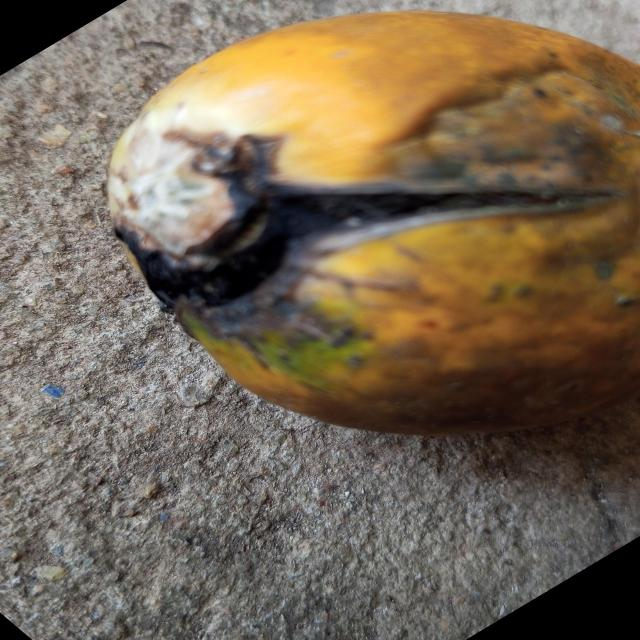damaged: (108, 12, 640, 434)
